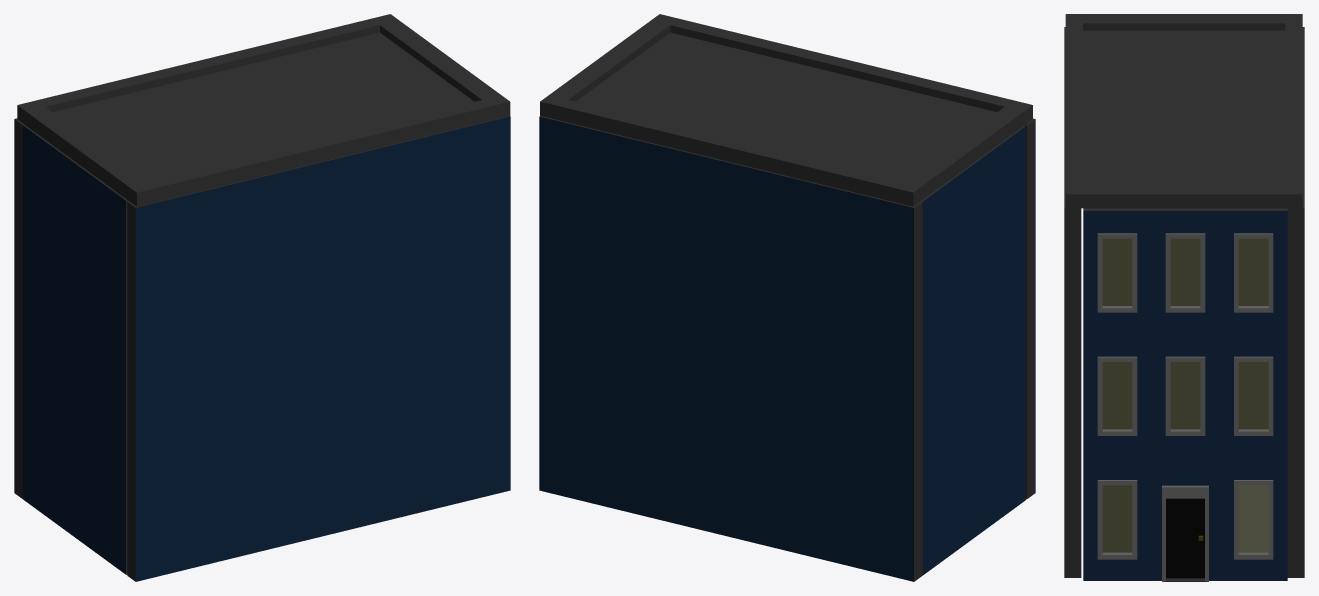
Rendered from Blue_skinny_apartment.dae.
The picture shows the model from 3 angles, left to right: view 1: azimuth 30°, elevation 25°; view 2: azimuth 150°, elevation 25°; view 3: azimuth 270°, elevation 25°; orthographic projection.
Visible parts, largest first — view 1: pCube67; view 2: pCube67; view 3: pCube67.
Boxes of the visible parts, x1,y1,x2,y2 form: pCube67: (14, 14, 510, 581); pCube67: (539, 14, 1035, 581); pCube67: (1064, 14, 1304, 581).
Size of the model in its own units: 4.38 by 4.28 by 2.42.
